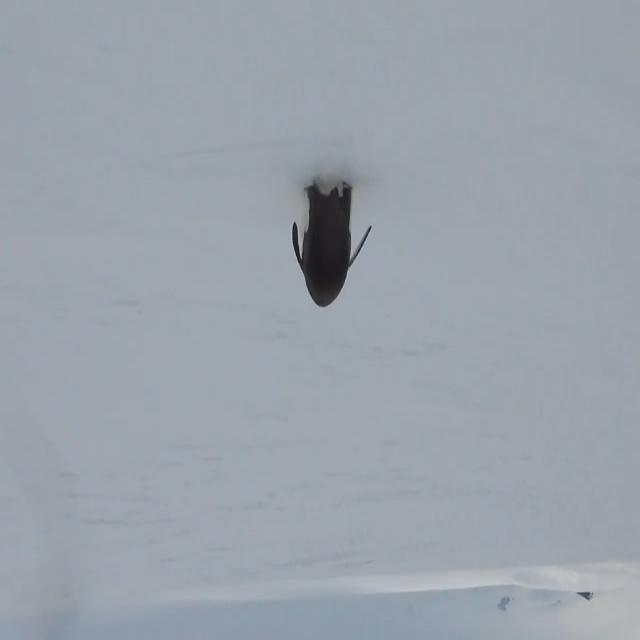penguin: (292, 177, 372, 308)
